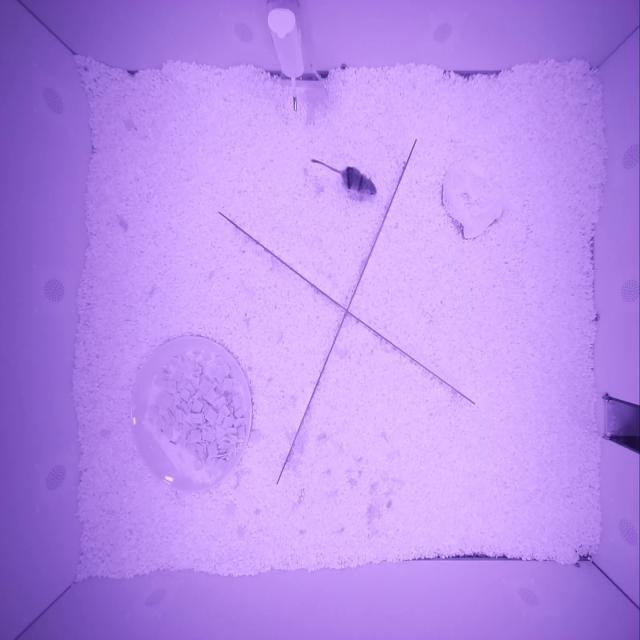pup_h_stripe: (341, 166, 376, 195)
